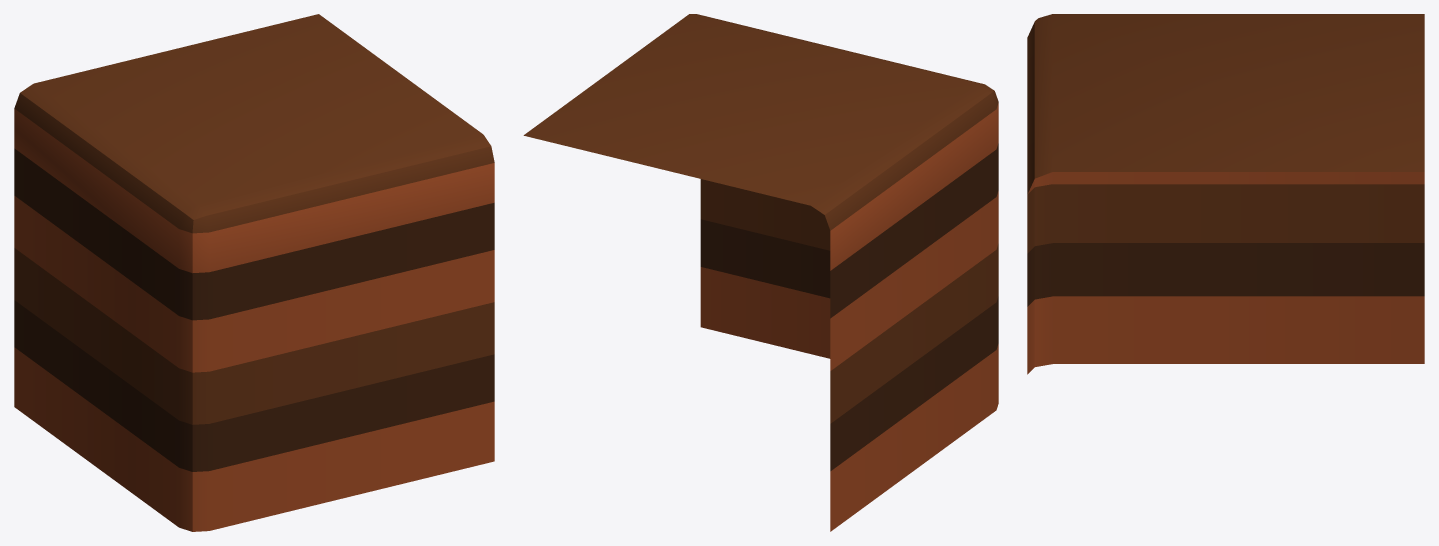
The model's file is Cube_Dirt_Corner_Tall.fbx.
3 renders of one model, left to right at view 1: azimuth 30°, elevation 25°; view 2: azimuth 150°, elevation 25°; view 3: azimuth 270°, elevation 25°, orthographic. The views are drawn at different scales.
Visible parts, largest first — view 1: Cube_Dirt_Corner_Tall; view 2: Cube_Dirt_Corner_Tall; view 3: Cube_Dirt_Corner_Tall.
Boxes of the visible parts, box(x1,y1,x2,y2) form: Cube_Dirt_Corner_Tall: box(14, 14, 494, 531); Cube_Dirt_Corner_Tall: box(523, 14, 998, 531); Cube_Dirt_Corner_Tall: box(1027, 14, 1424, 374).
Size of the model in its own units: 200 by 200 by 200.
